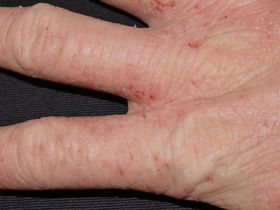Diseased: (26, 5, 229, 182)
